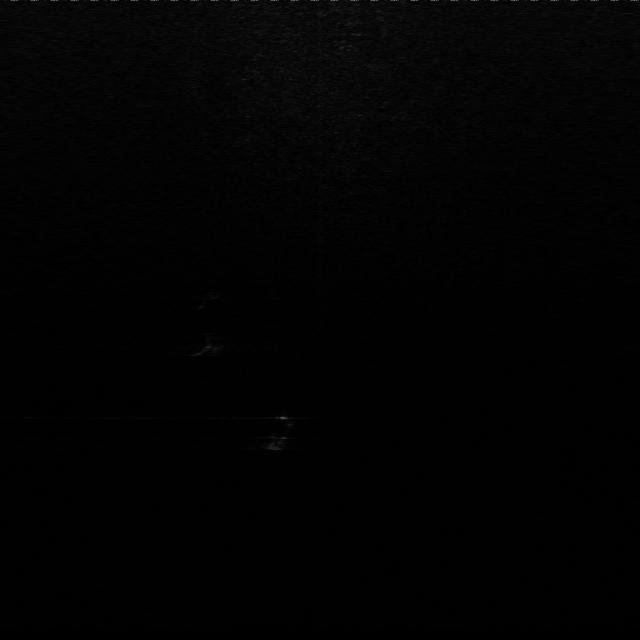ball: (188, 289, 221, 313)
circle cage: (186, 328, 232, 363)
tyre: (257, 410, 299, 454)
